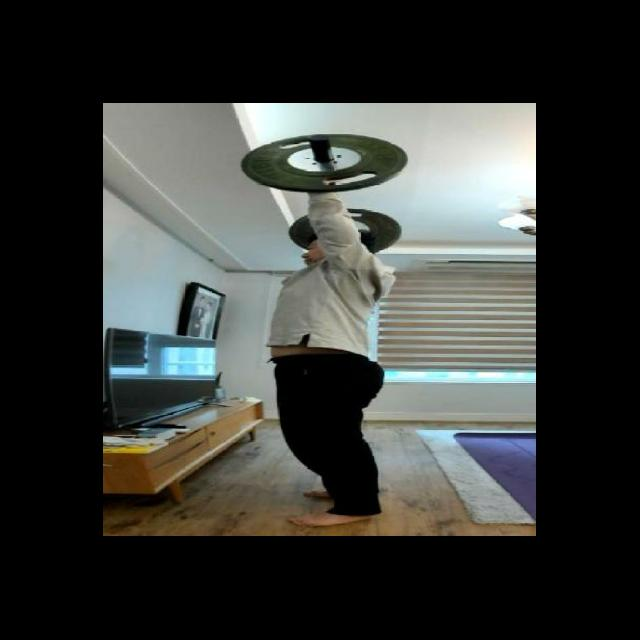barbell: (228, 123, 420, 199)
